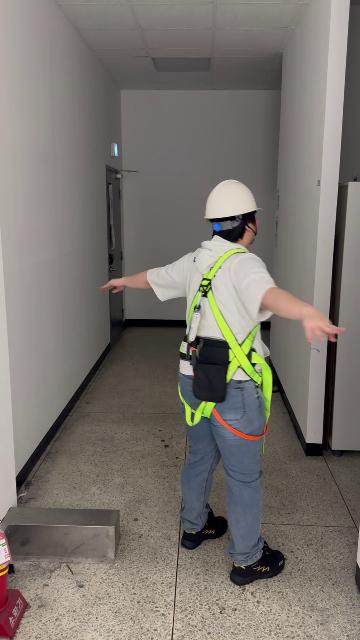helmet_not_worn: (202, 178, 264, 220)
shoe_worn: (230, 541, 285, 585), (180, 505, 226, 550)
vest_worn: (178, 251, 273, 436)
